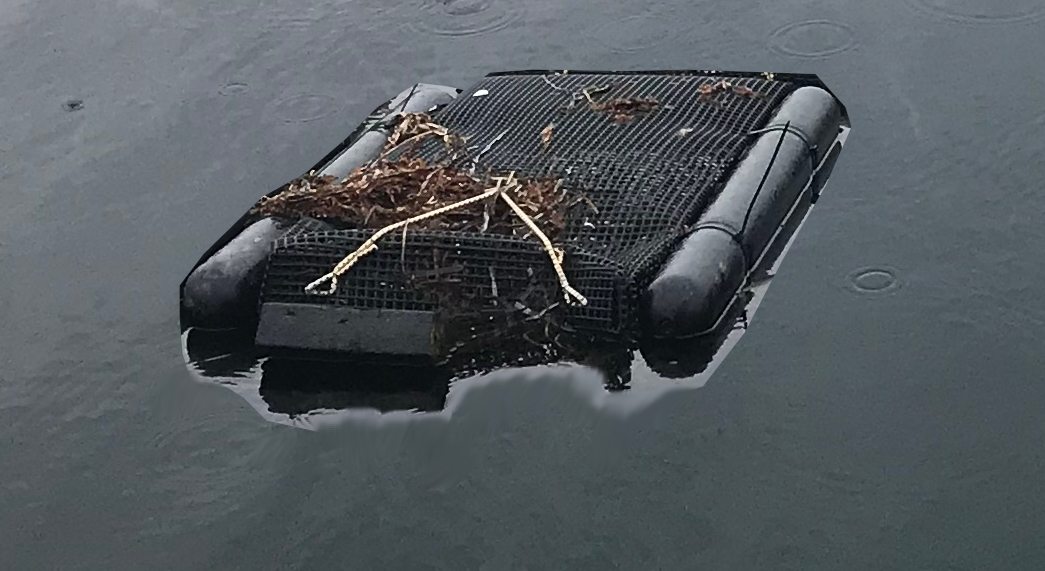bag: (175, 64, 853, 436)
